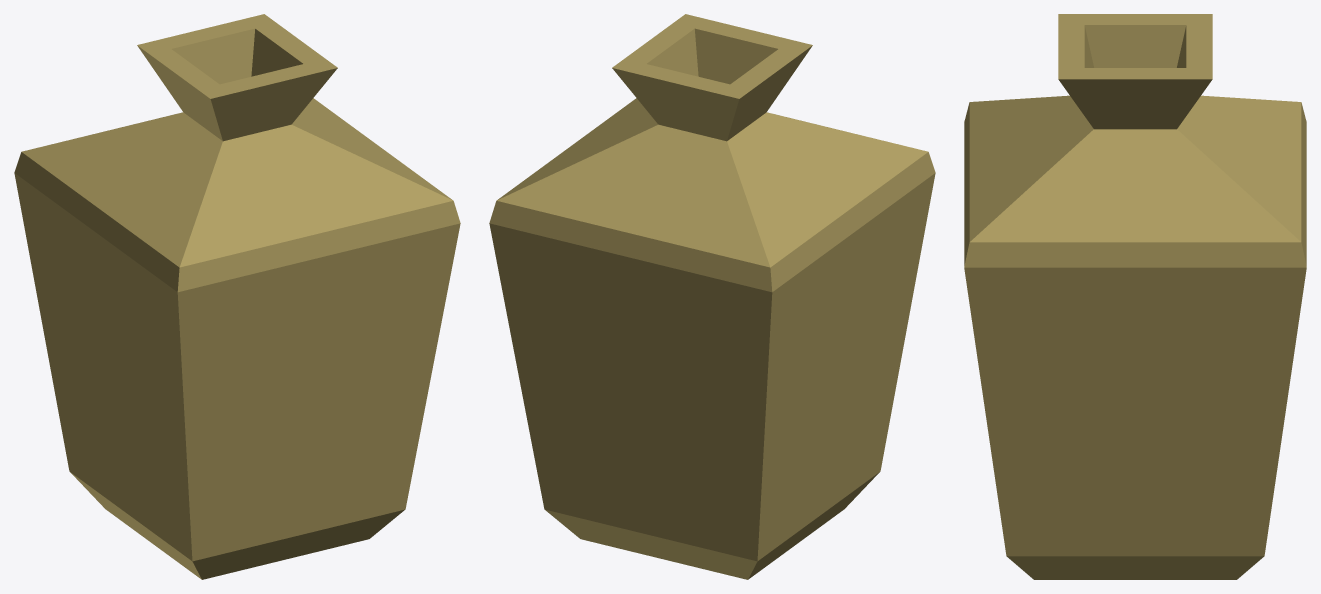
File: vase.glb
3 renders of one model, left to right at view 1: azimuth 30°, elevation 25°; view 2: azimuth 150°, elevation 25°; view 3: azimuth 270°, elevation 25°, orthographic. The views are drawn at different scales.
Visible parts, largest first — view 1: Vase; view 2: Vase; view 3: Vase.
Part boxes in pixels (<box>): Vase: <box>14,14,460,579</box>; Vase: <box>489,14,935,579</box>; Vase: <box>964,14,1306,579</box>.
Bounding box in the file's own units: 1.08 × 1.71 × 1.08.
1 material, 1 textured.
